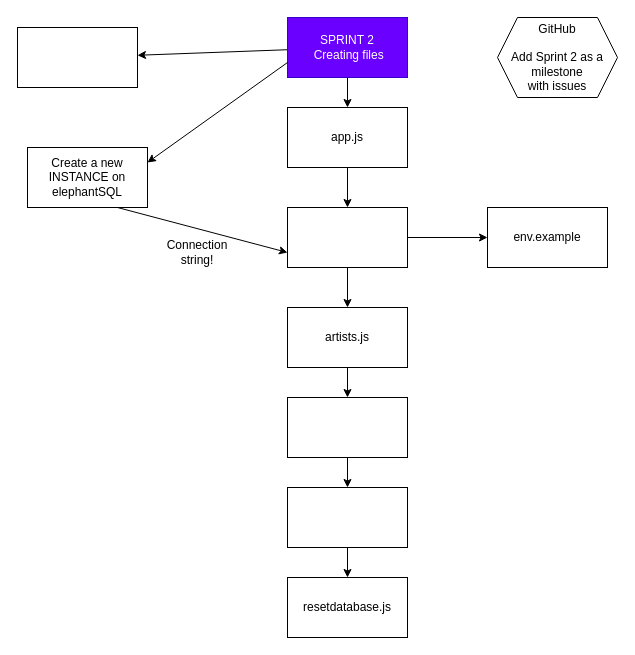
Some shapes in this 635 by 655 pixel diagram are drawn without their labels. The centre of each missing label's shape, as x and y in pixels:
".env" goes at (347,237).
"index.js (connection to env etc)" goes at (347,517).
"package.json file contains correct dependencies and dev-dependences!" goes at (77,57).
"songs.js" goes at (347,427).
